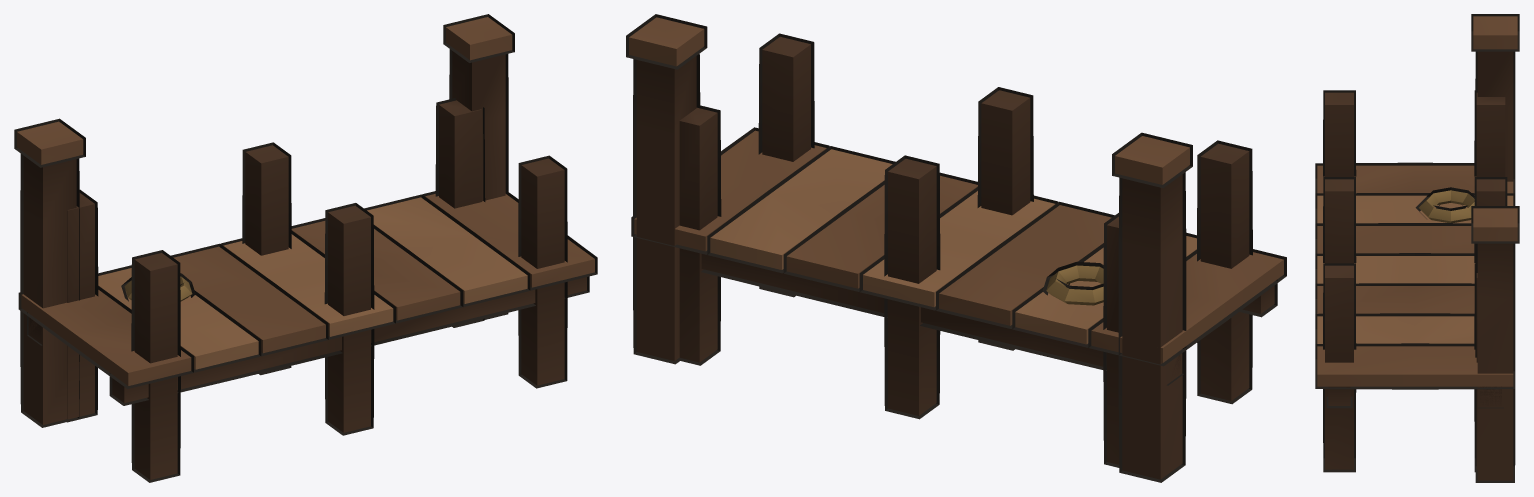
Rendered from ponton.glb.
3 renders of one model, left to right at view 1: azimuth 30°, elevation 25°; view 2: azimuth 150°, elevation 25°; view 3: azimuth 270°, elevation 25°, orthographic. The views are drawn at different scales.
Parts seen in each view (by area): view 1: ponton, ponton_outline; view 2: ponton, ponton_outline; view 3: ponton, ponton_outline.
Part boxes in pixels (x1,y1,x2,y2): ponton: [17, 17, 594, 479]; ponton_outline: [14, 14, 597, 482]; ponton: [629, 17, 1283, 479]; ponton_outline: [626, 14, 1286, 482]; ponton: [1317, 16, 1517, 480]; ponton_outline: [1315, 14, 1519, 482].
Bounding box in the file's own units: 2.26 × 1.28 × 0.9162.
